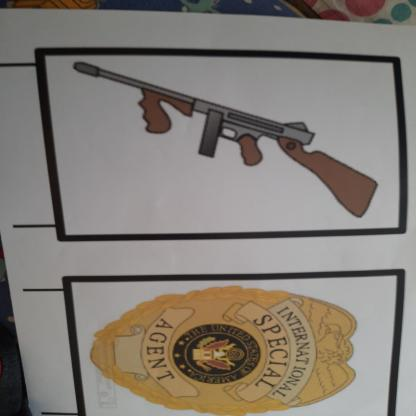Bootlegger: (53, 51, 398, 230)
G-man: (79, 280, 378, 416)
